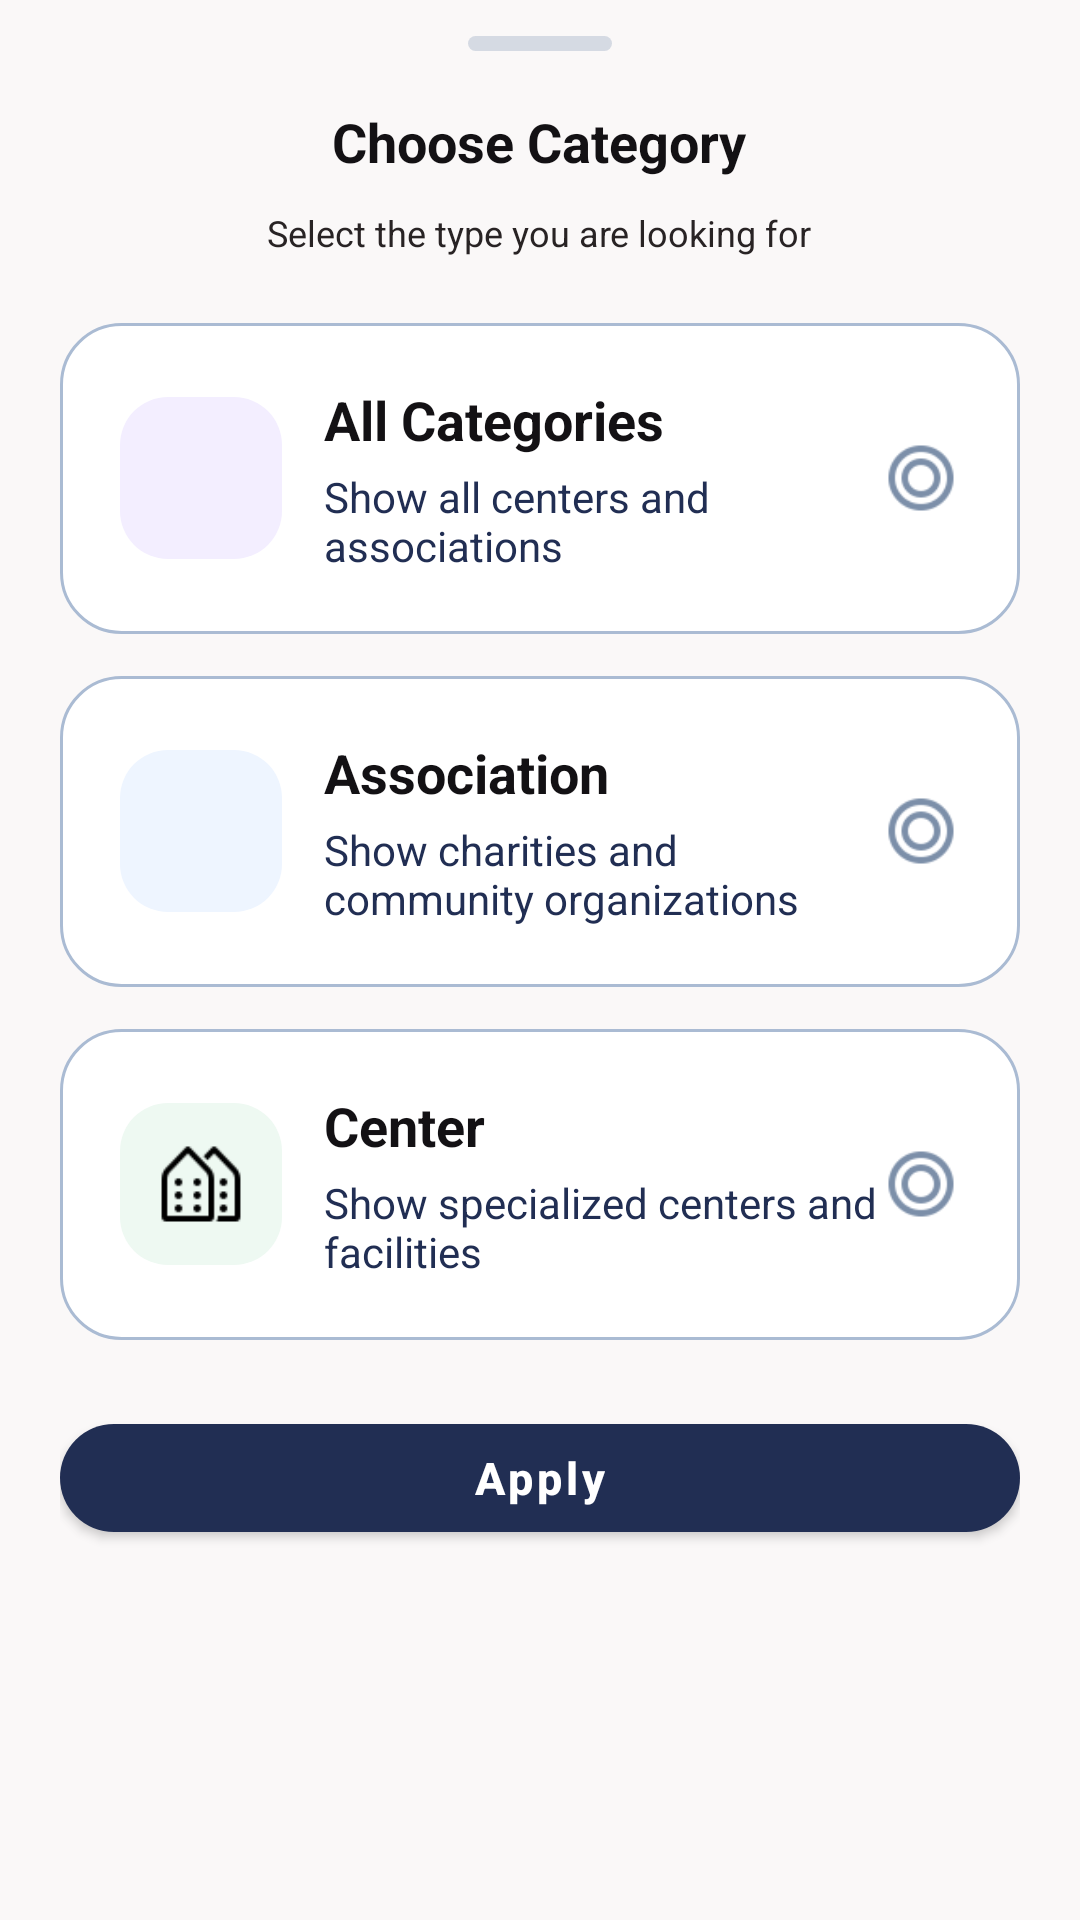

Where icons sit on this 1080px x 1920px app screen, as (x1, y1, x2, y2):
radio: (888, 445, 954, 511), (888, 798, 954, 864), (888, 1151, 954, 1217)
